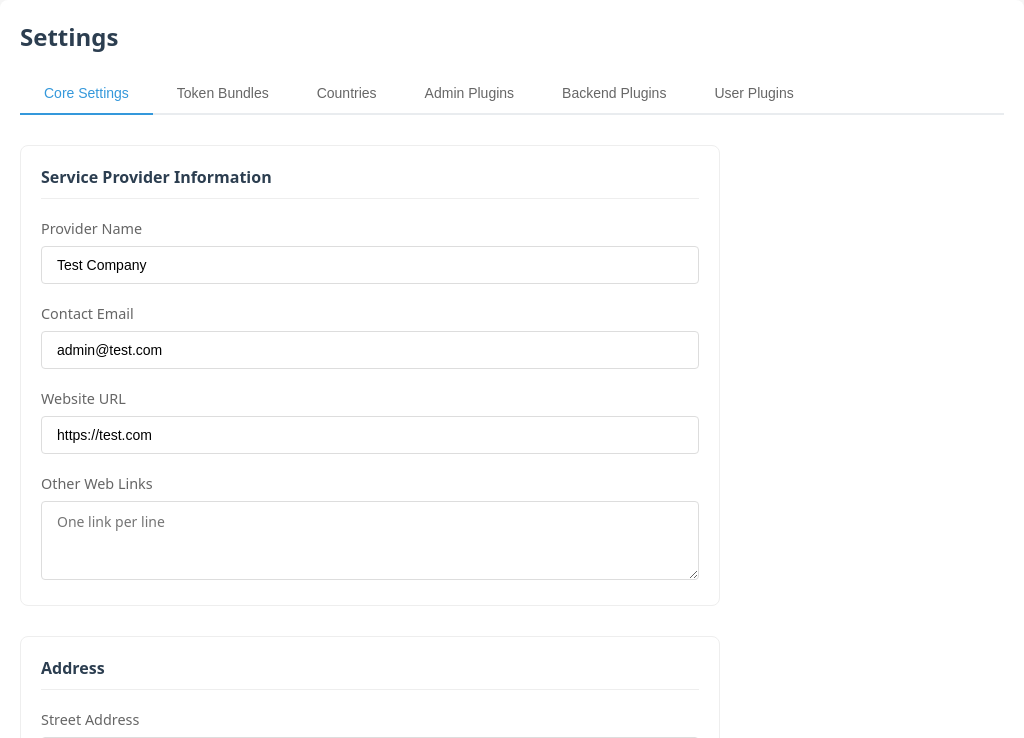
Settings.vue › can switch between tabs
# Click on tokens tab
Click the button with test id "tab-tokens".
click(223, 94)  # box [153,73,293,115]
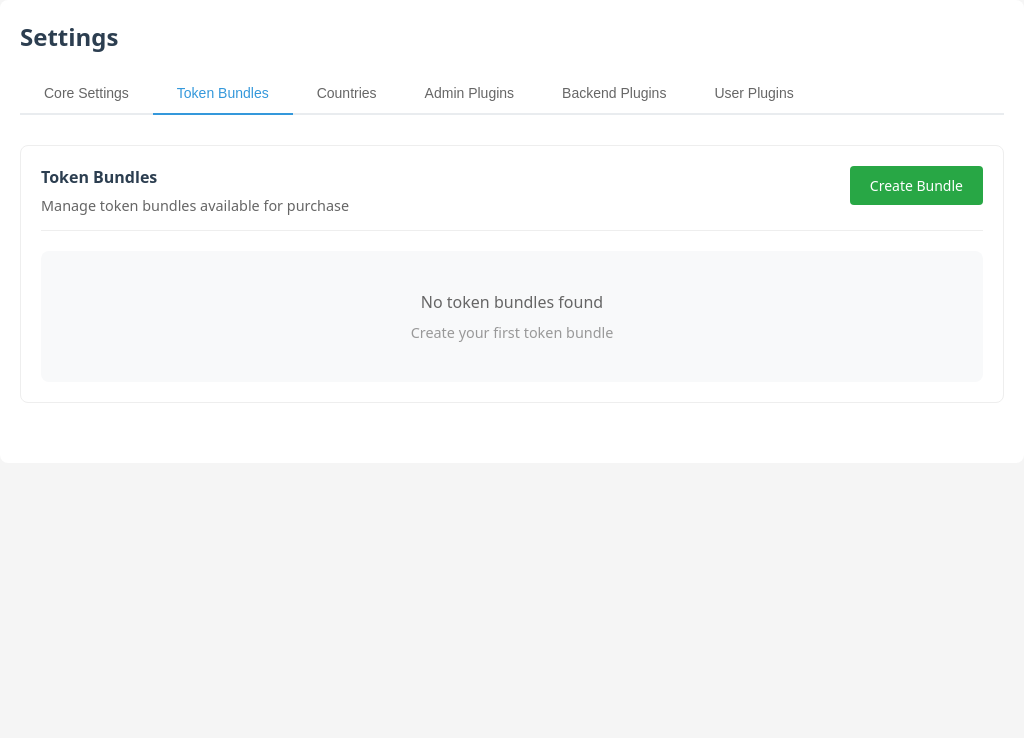
Check: the element with test id "tokens-content" is shown, box [20,145,1004,403]
